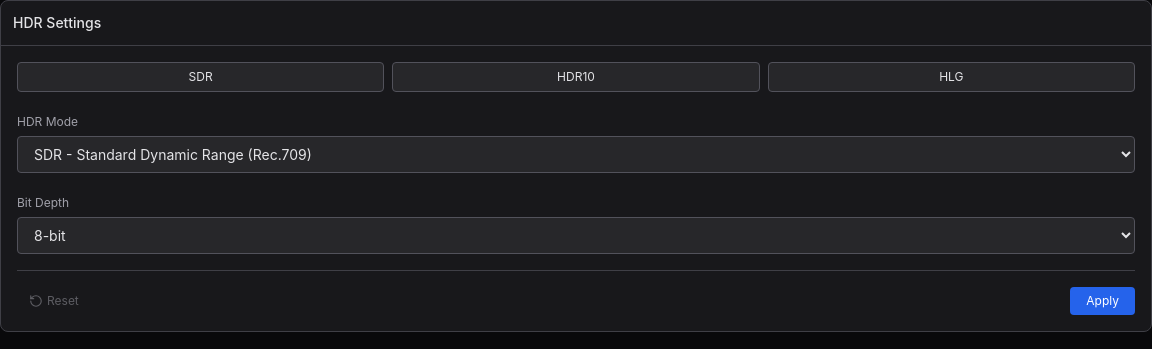
Scenario: HDRSettingsPanel › save › should show success message after save
The width and height of the screenshot is (1152, 349).
# Click apply
Click the button "Apply" at (1103, 301), box top-left (1070, 287), bottom-right (1135, 315)
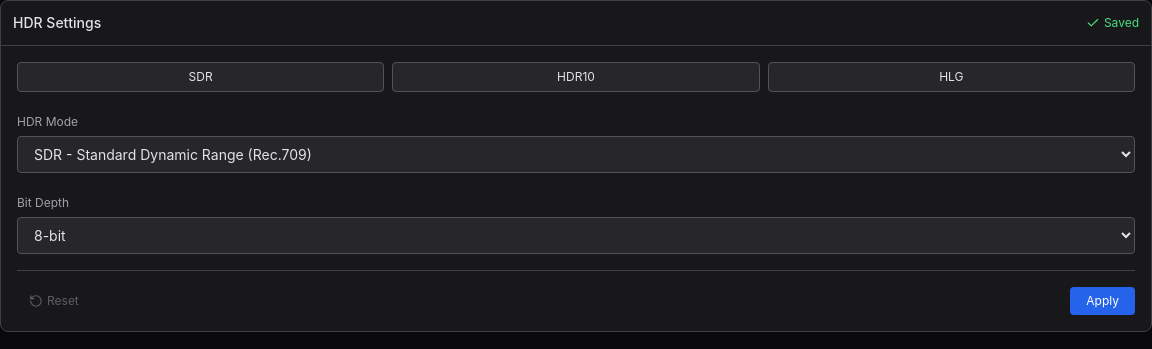
Now the text "Saved" is shown, box top-left (1086, 15), bottom-right (1139, 31)
